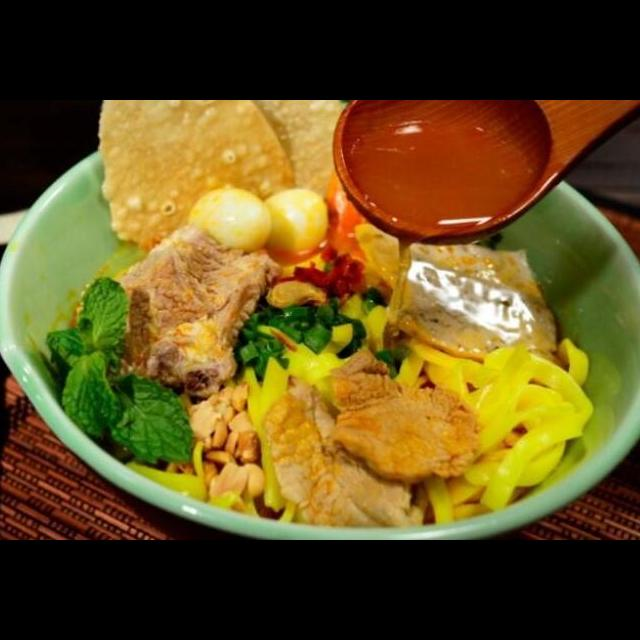banh da: (94, 101, 299, 255), (238, 101, 357, 213)
mi: (388, 328, 596, 530), (233, 294, 396, 450)
mi quang: (0, 150, 640, 540)
thit heo: (96, 220, 285, 399), (259, 371, 426, 532), (392, 241, 566, 371), (323, 343, 482, 484)
trung: (181, 183, 274, 258), (253, 185, 332, 262)
